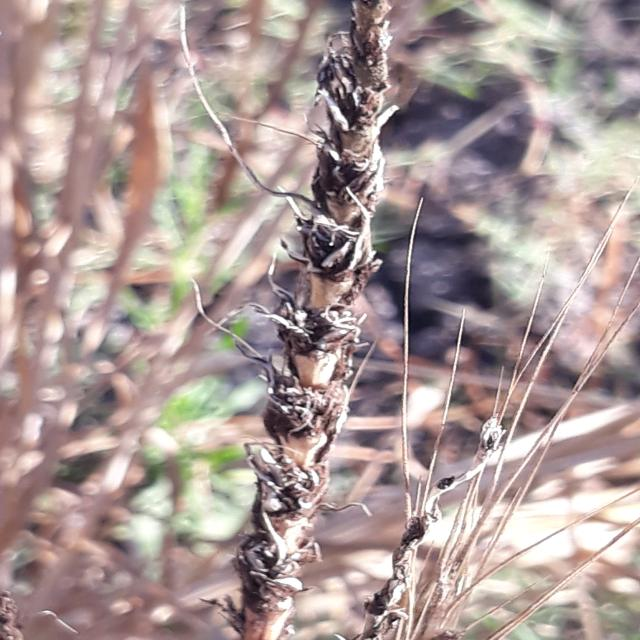loose_charred: (172, 0, 403, 640), (335, 392, 572, 640)
